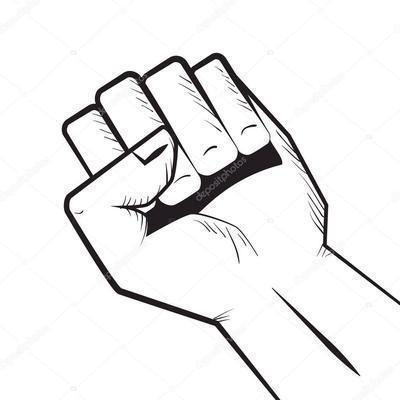closedhandfront: (34, 46, 347, 333)
